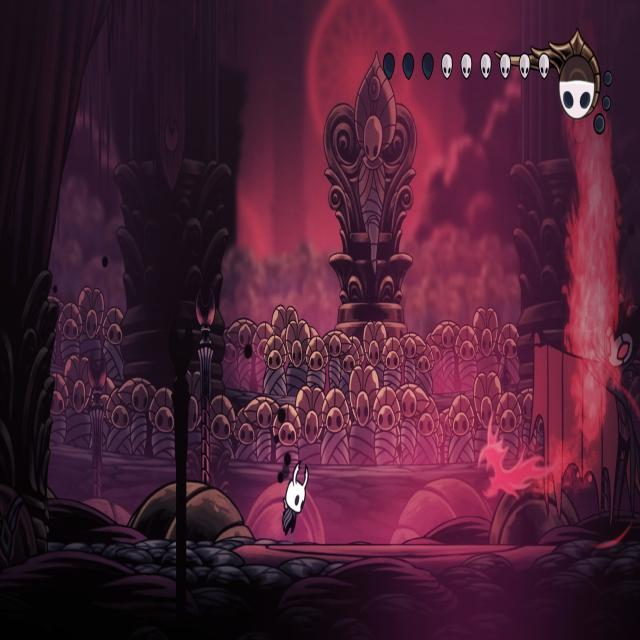Fire Bat: (476, 407, 546, 499)
Open Cloak: (526, 289, 640, 545)
Player: (278, 454, 308, 540)
